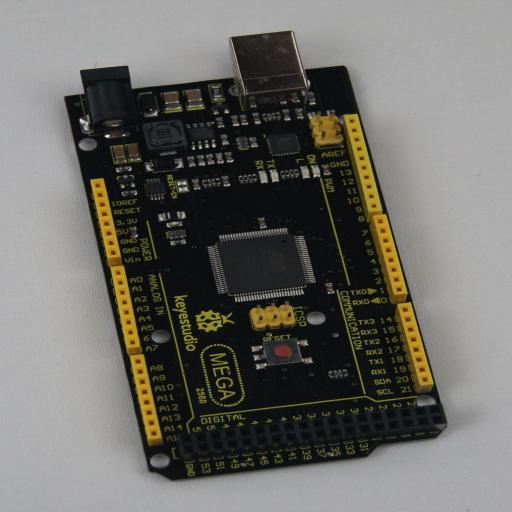Arduino Mega 2560 -Black and Yellow-: (64, 31, 447, 481)
